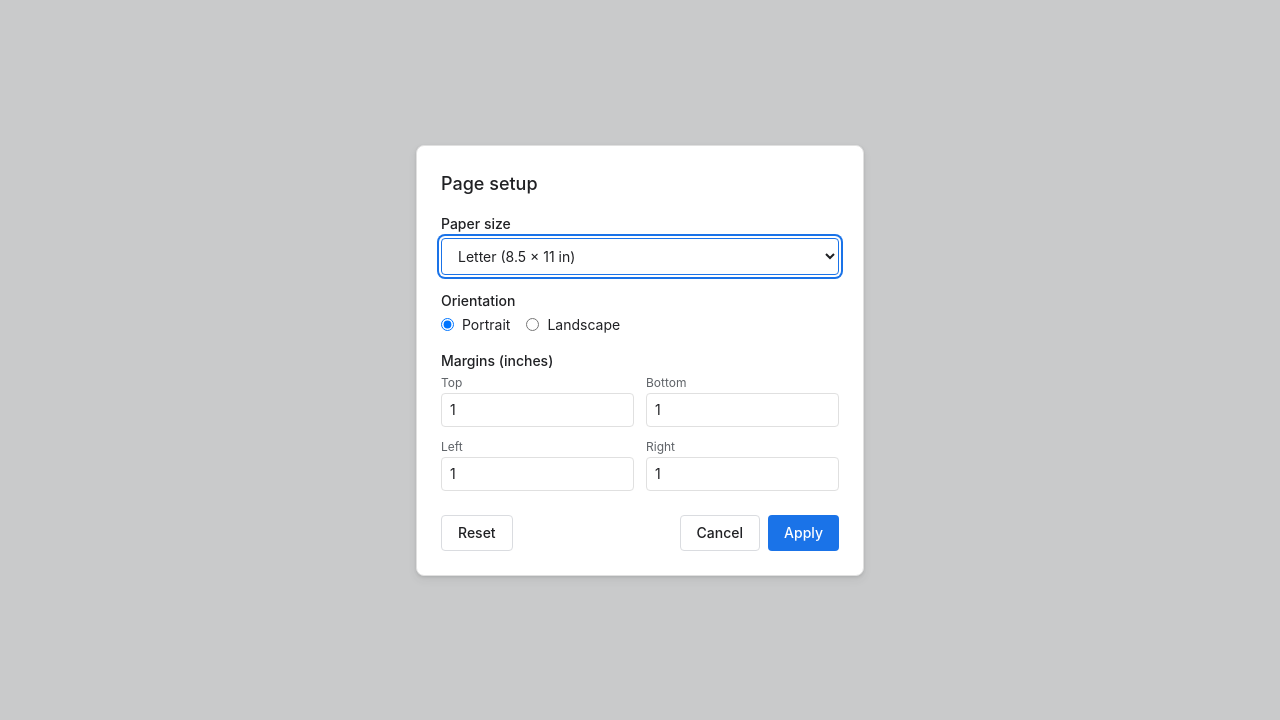
PageSetupDialog › judges margins against the chosen paper
Clear the number field labelled "Left" at (538, 474), box [441, 456, 634, 490]
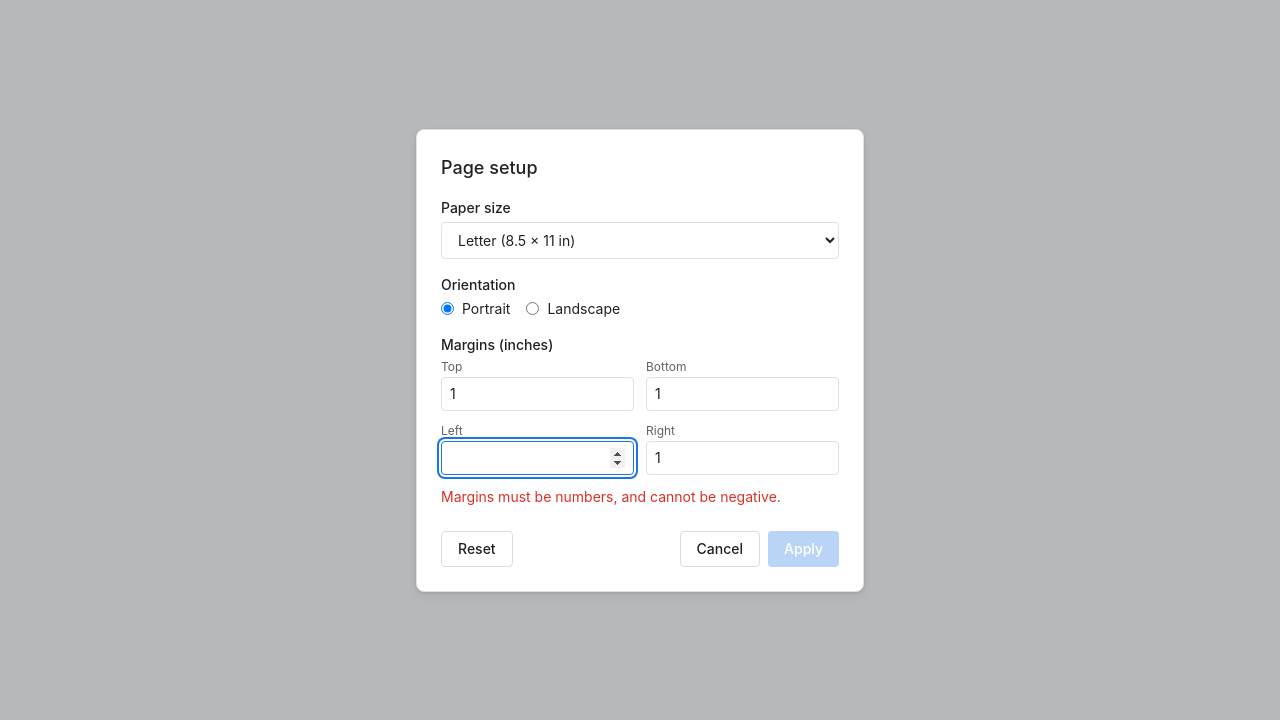
Type "4.2" into the number field labelled "Left".
click(538, 458); type("4.2")  # box [441, 440, 634, 474]
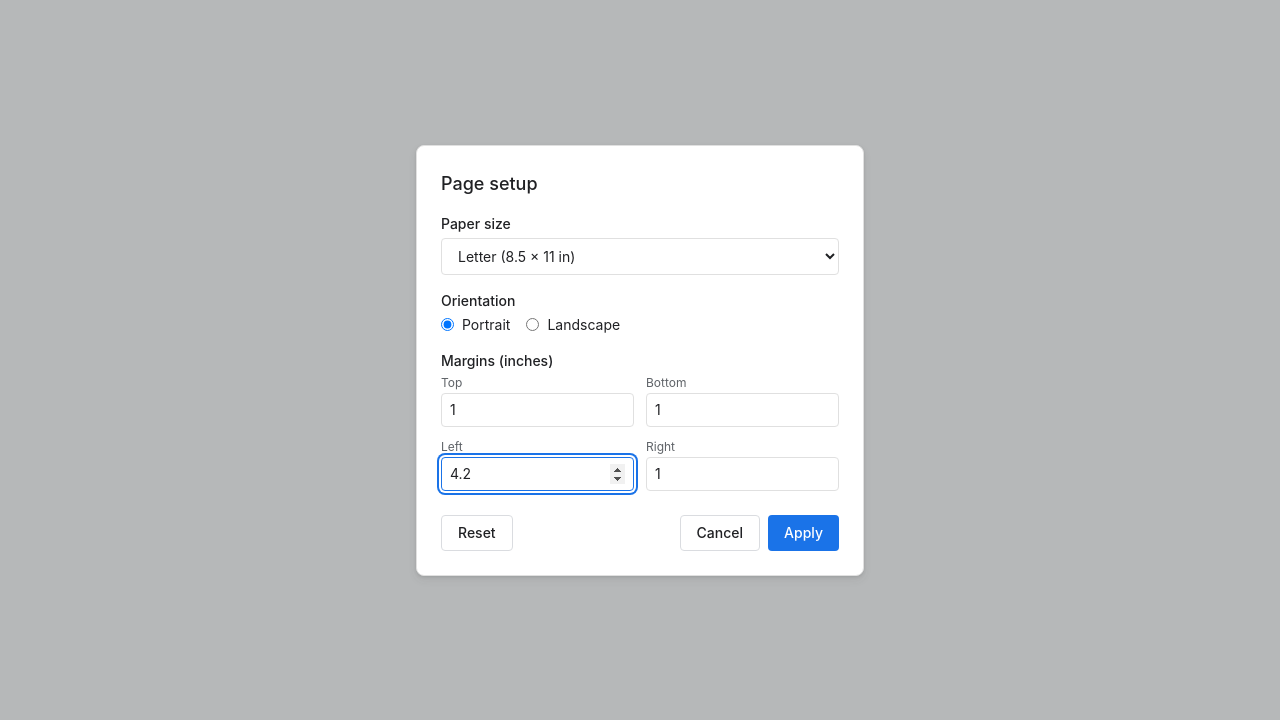
Clear the number field labelled "Right" at (742, 474), box [646, 456, 839, 490]
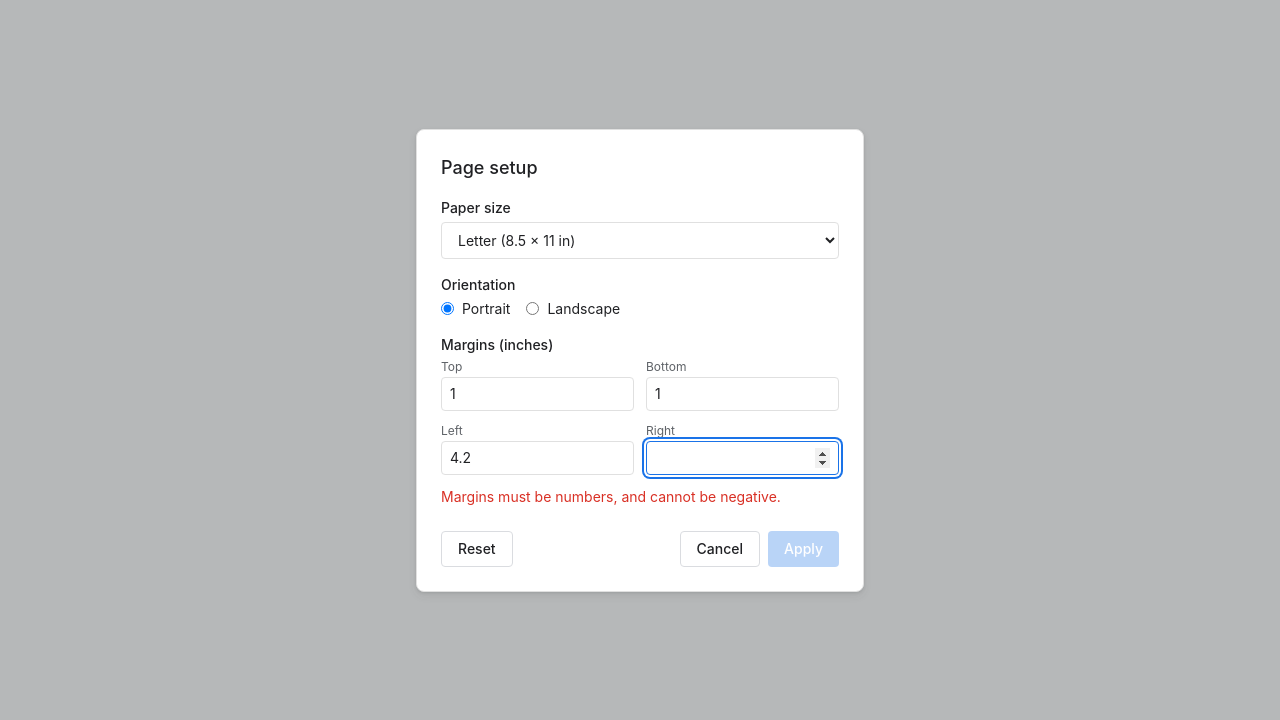
Type "4.2" into the number field labelled "Right".
click(742, 458); type("4.2")  # box [646, 440, 839, 474]
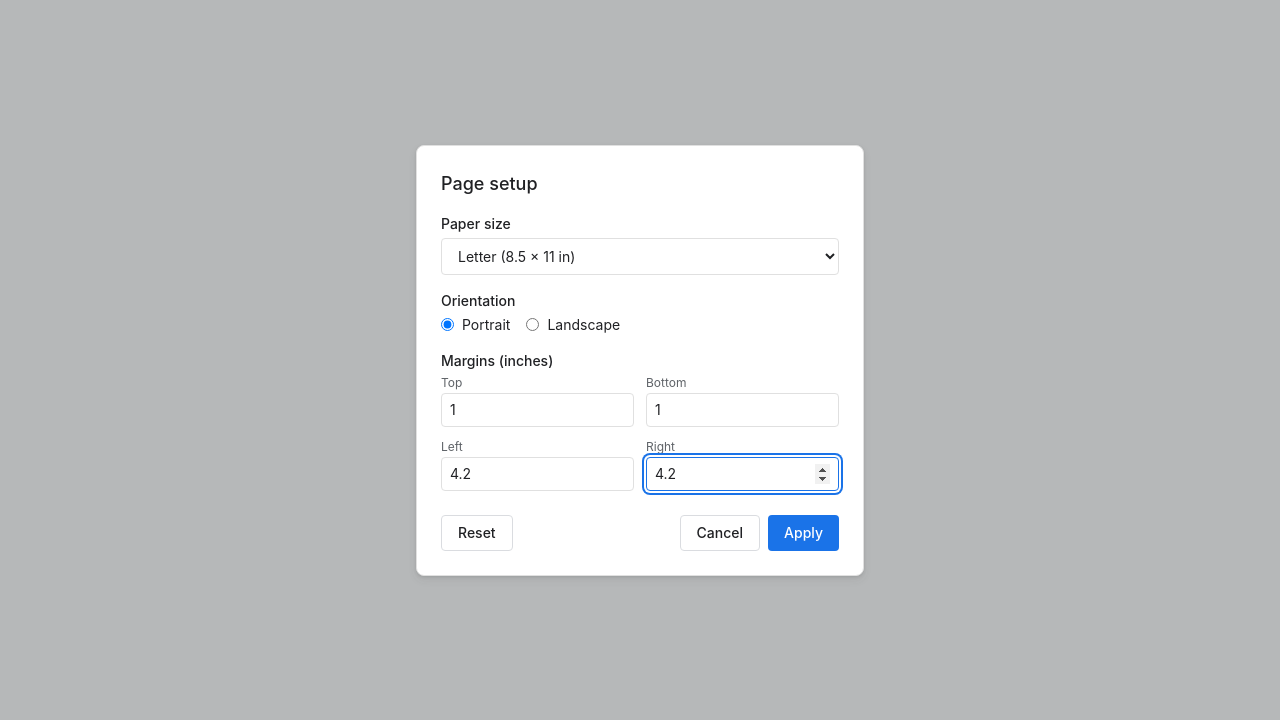
Select "A4 (210 × 297 mm)" in the dropdown labelled "Paper size" at (640, 256), box [441, 238, 839, 274]
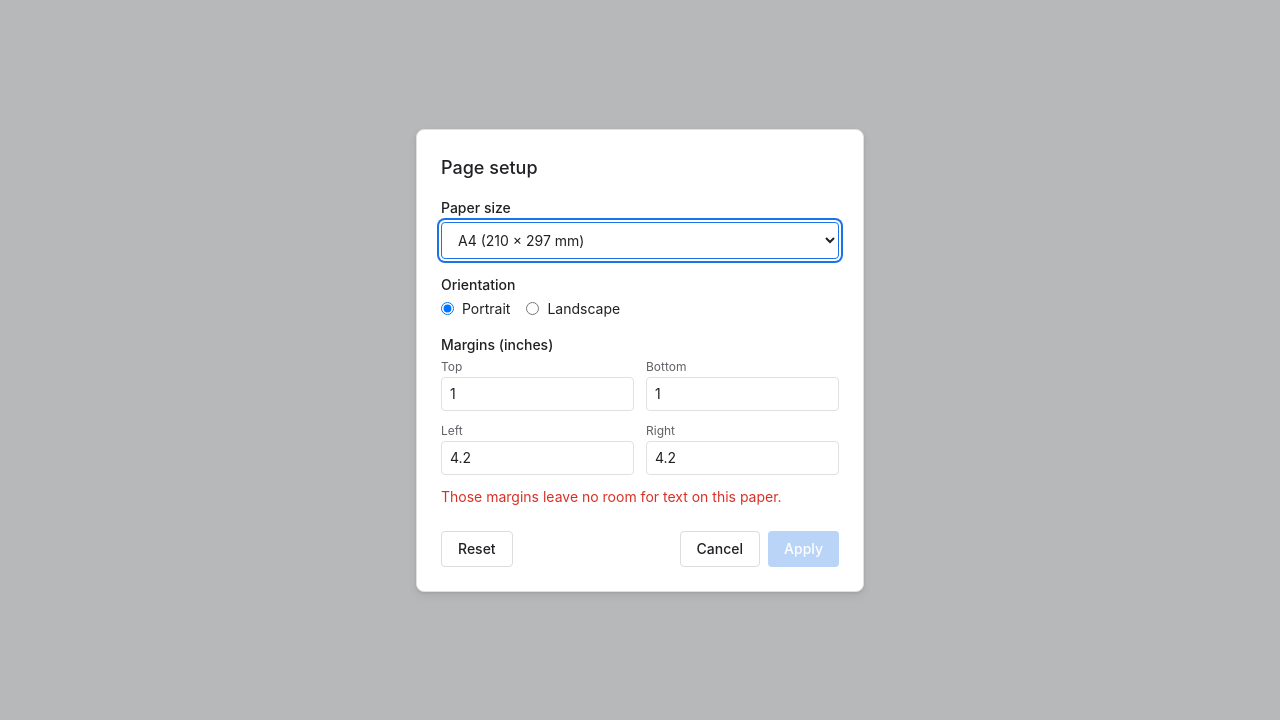
Expected: the button "Apply" is disabled, [768, 530, 839, 566]
Click the radio button labelled "Landscape".
click(533, 308)  # box [526, 302, 539, 315]
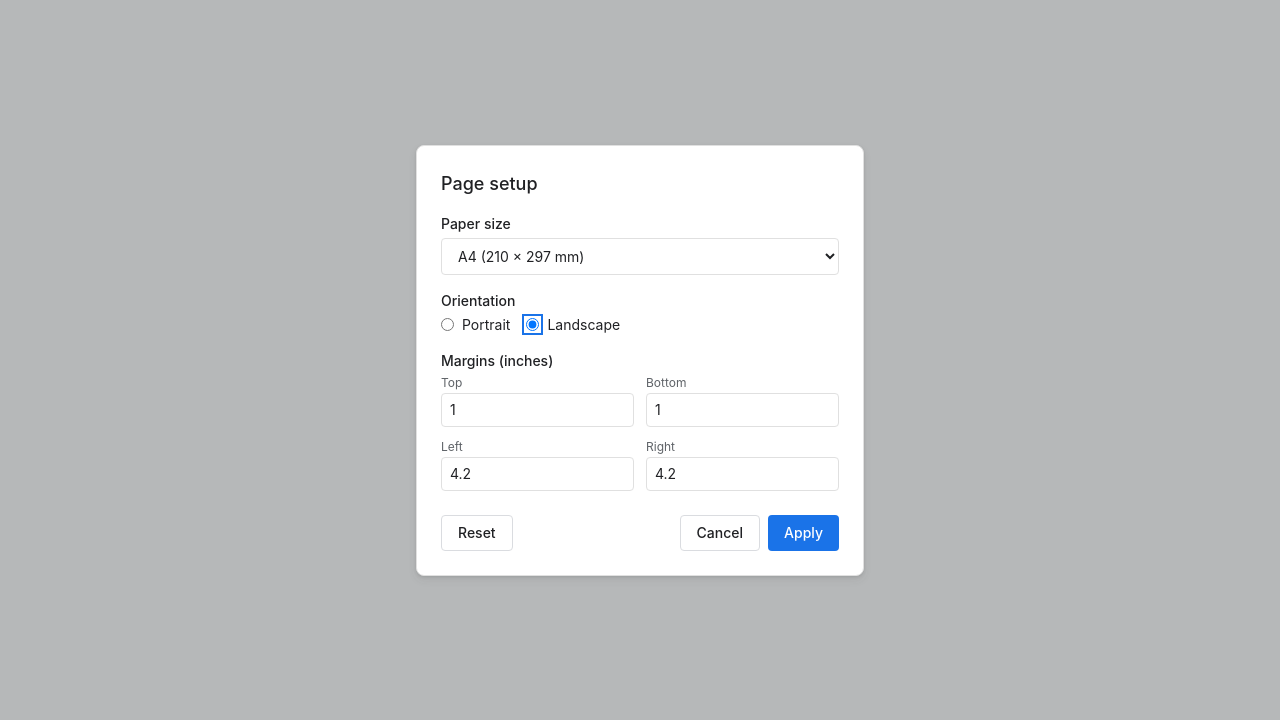
Expected: the button "Apply" is enabled, [768, 514, 839, 550]
